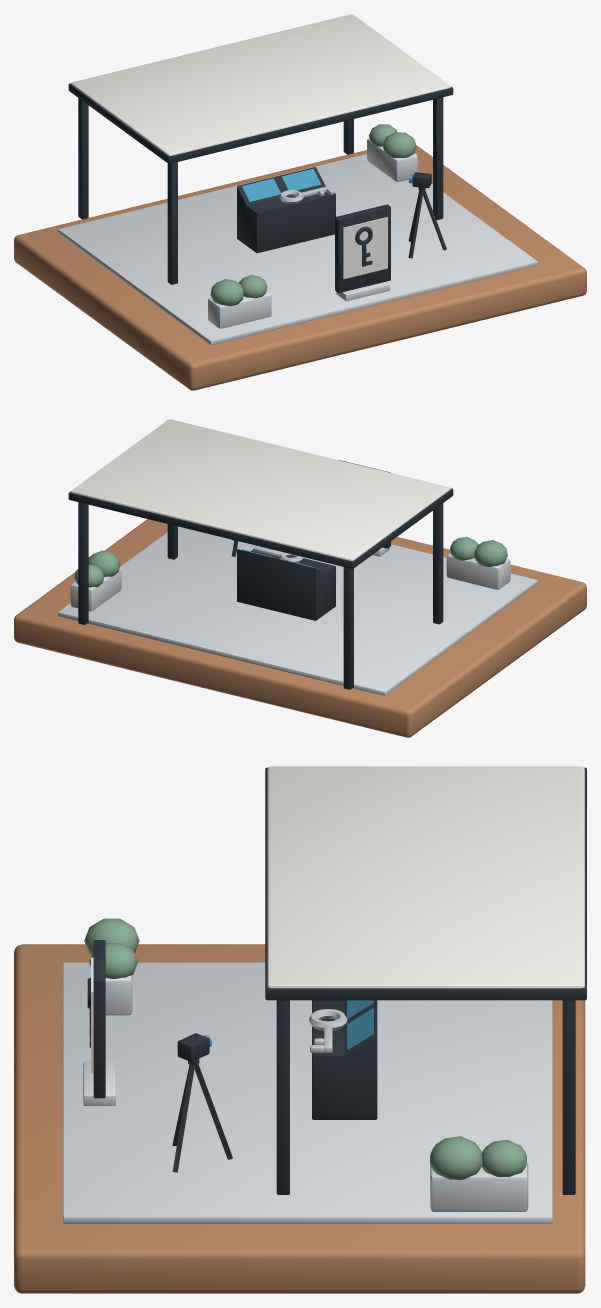
File: BLD_DELIVERY_AREA_A_v001.glb
The picture shows the model from 3 angles, top to bottom: view 1: azimuth 30°, elevation 25°; view 2: azimuth 150°, elevation 25°; view 3: azimuth 270°, elevation 25°; orthographic projection. The views are drawn at different scales.
Parts seen in each view (by area): view 1: BLD_DELIVERY_AREA_A_BASE, BLD_DELIVERY_AREA_A_SCREEN_FACE_0, BLD_DELIVERY_AREA_A_SCREEN_FACE_1, BLD_DELIVERY_AREA_A_KEY; view 2: BLD_DELIVERY_AREA_A_BASE; view 3: BLD_DELIVERY_AREA_A_BASE, BLD_DELIVERY_AREA_A_KEY, BLD_DELIVERY_AREA_A_SENSOR_HEAD, BLD_DELIVERY_AREA_A_SCREEN_FACE_1.
Boxes of the visible parts, x1,y1,x2,y2 form: BLD_DELIVERY_AREA_A_BASE: (14,14,586,390); BLD_DELIVERY_AREA_A_SCREEN_FACE_0: (241,178,280,202); BLD_DELIVERY_AREA_A_SCREEN_FACE_1: (281,169,321,190); BLD_DELIVERY_AREA_A_KEY: (279,186,334,203); BLD_DELIVERY_AREA_A_BASE: (14,419,586,737); BLD_DELIVERY_AREA_A_BASE: (14,766,586,1293); BLD_DELIVERY_AREA_A_KEY: (309,1009,347,1052); BLD_DELIVERY_AREA_A_SENSOR_HEAD: (177,1033,211,1061); BLD_DELIVERY_AREA_A_SCREEN_FACE_1: (347,1008,373,1049).
Bounding box in the file's own units: 9 × 3.6 × 7.02.
